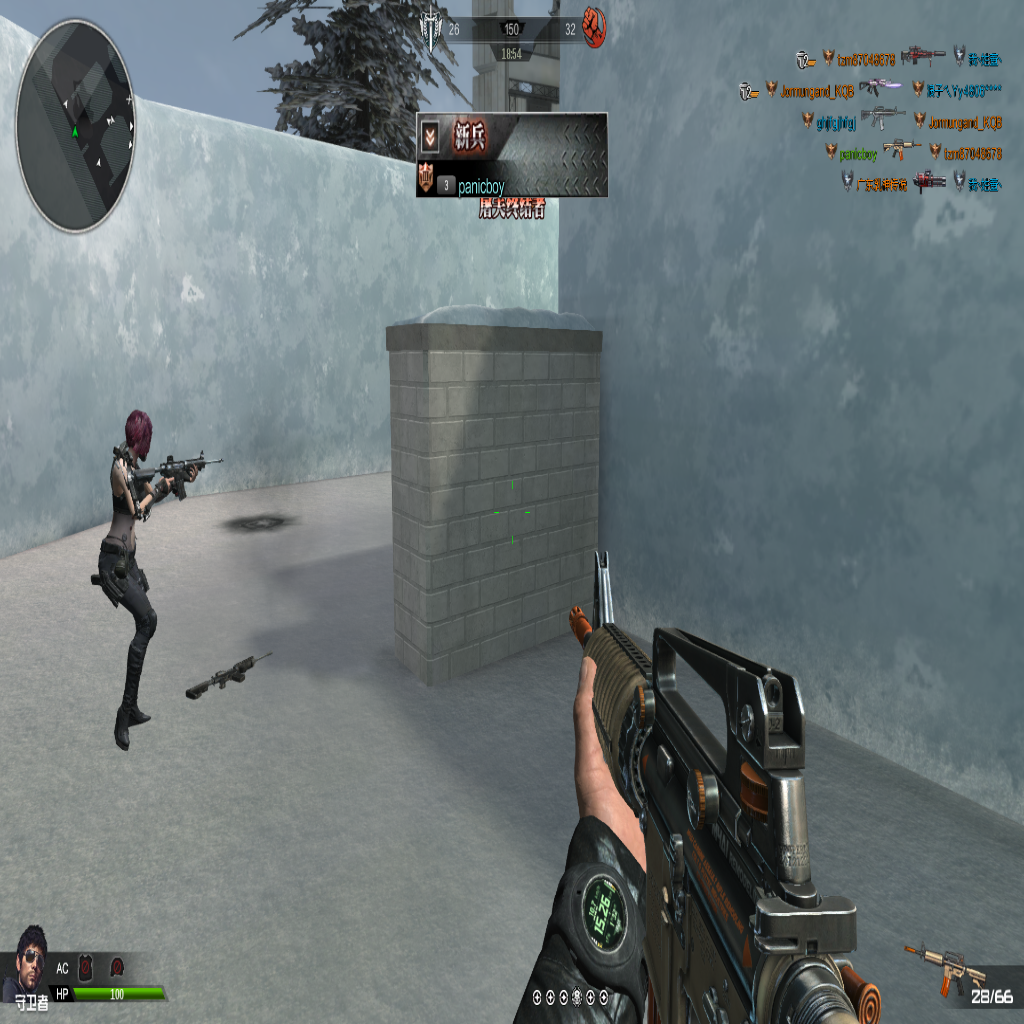ct: (99, 408, 169, 766)
